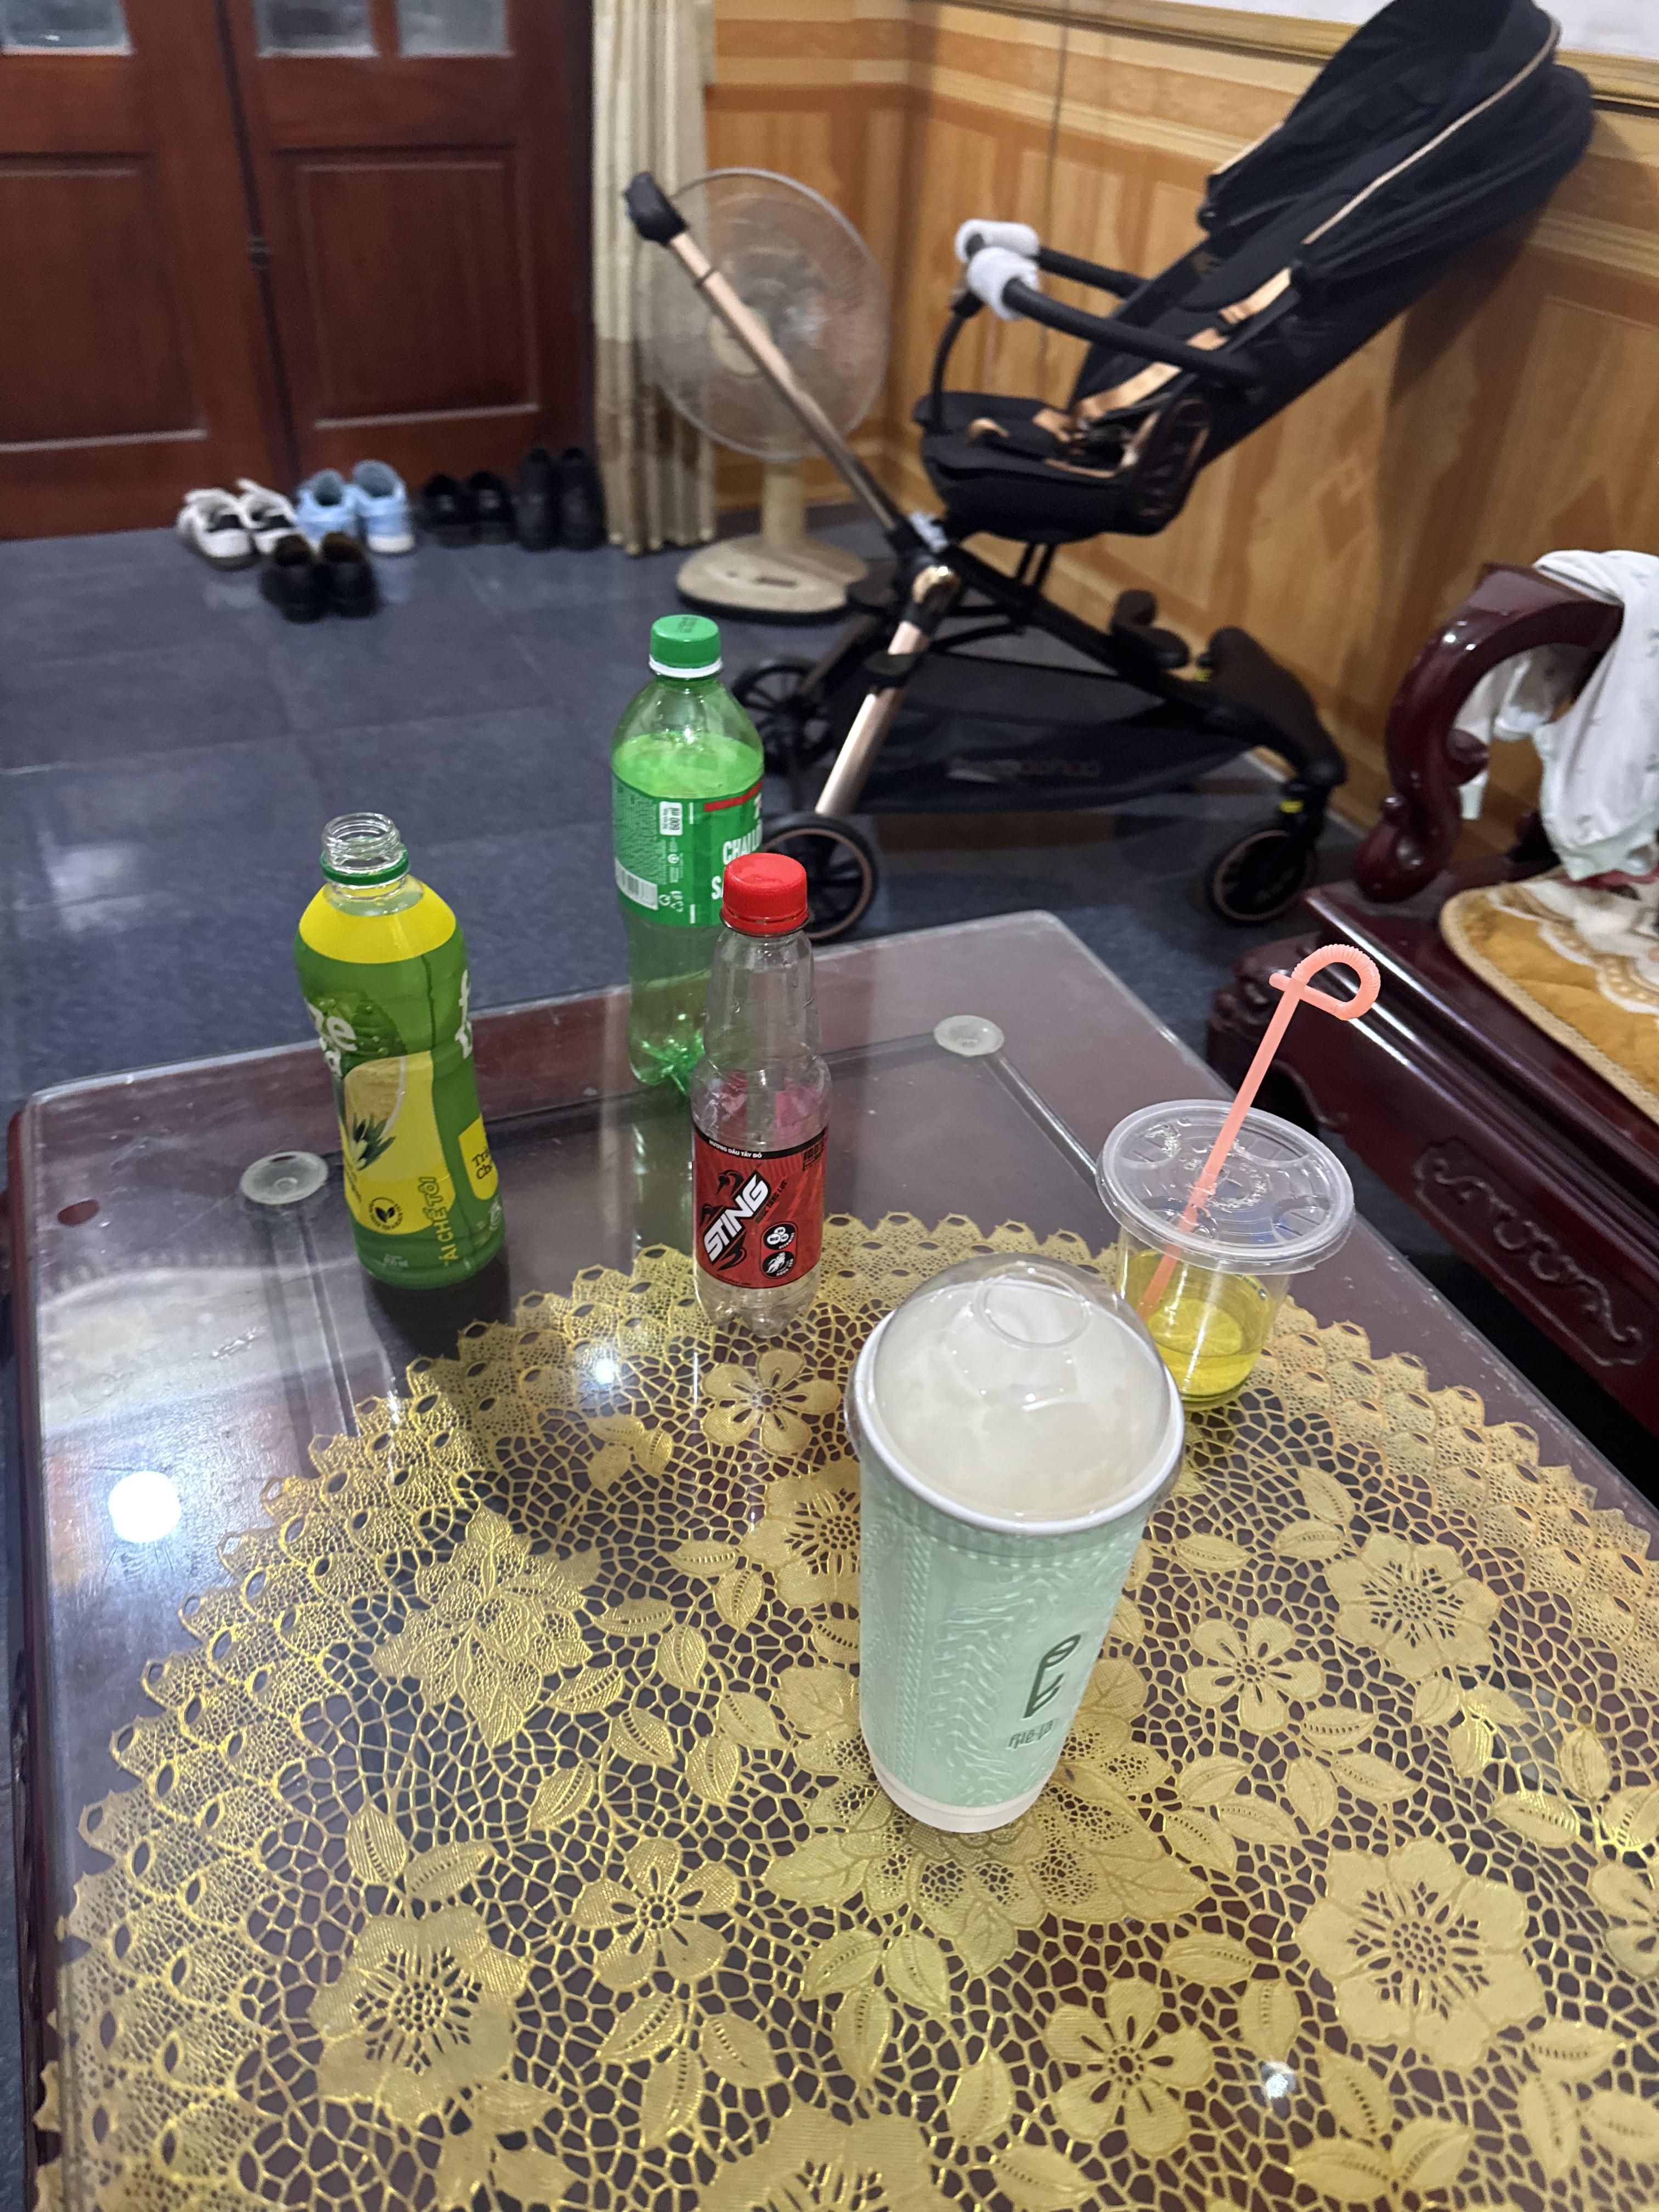2: (831, 1238, 1194, 1864), (1056, 1094, 1408, 1440)
bottle: (286, 796, 547, 1303), (652, 840, 878, 1366), (605, 587, 786, 1113)
